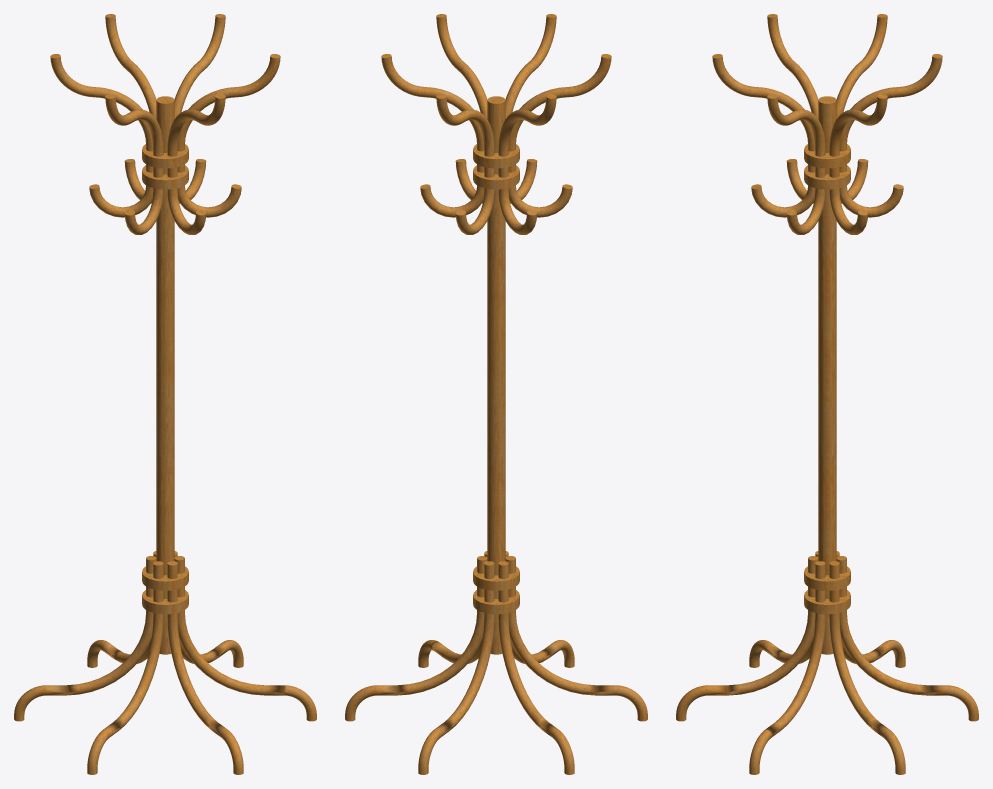
File: clothestree.obj
3 views of the same model, side by side, from view 1: azimuth 30°, elevation 25°; view 2: azimuth 150°, elevation 25°; view 3: azimuth 270°, elevation 25° (orthographic).
Visible parts, largest first — view 1: Mesh1 Group1 Model; view 2: Mesh1 Group1 Model; view 3: Mesh1 Group1 Model.
Part boxes in pixels (bbox=[...]): Mesh1 Group1 Model: bbox=[14, 14, 316, 774]; Mesh1 Group1 Model: bbox=[345, 14, 647, 774]; Mesh1 Group1 Model: bbox=[676, 14, 978, 774].
Bounding box in the file's own units: 2.04 × 5.66 × 2.34.
